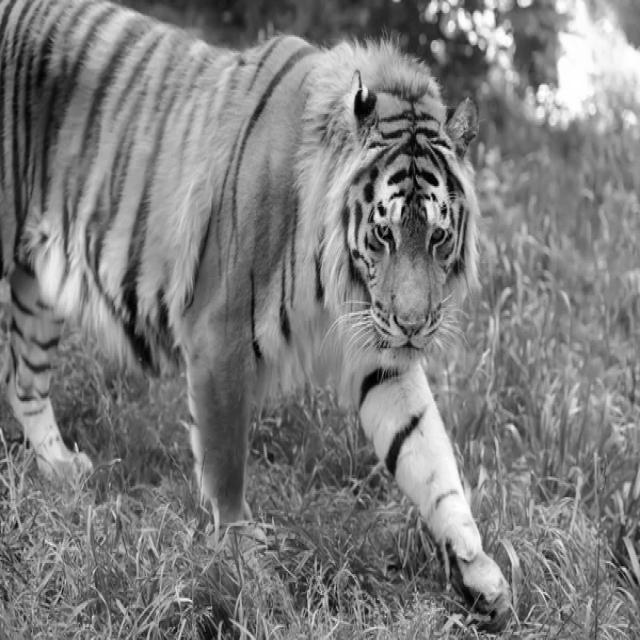Animal: (0, 1, 510, 616)
